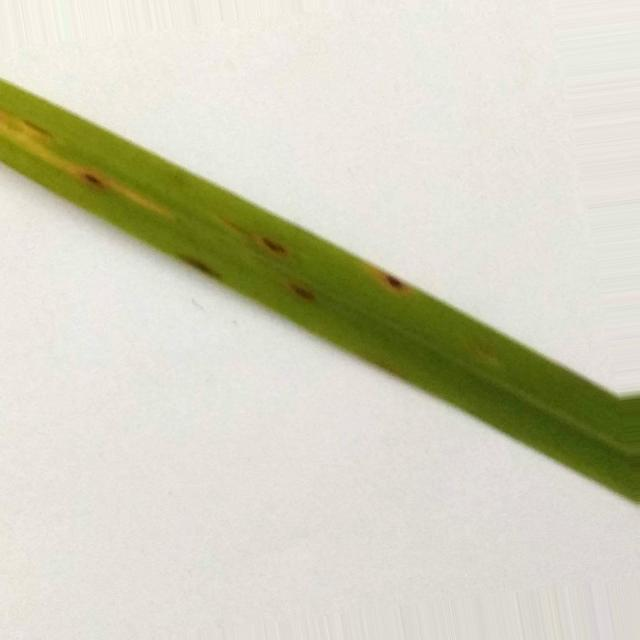Brown_Spot: (225, 221, 289, 259), (13, 112, 63, 142), (274, 274, 315, 302), (178, 254, 221, 279), (82, 168, 109, 188), (385, 274, 405, 289)
